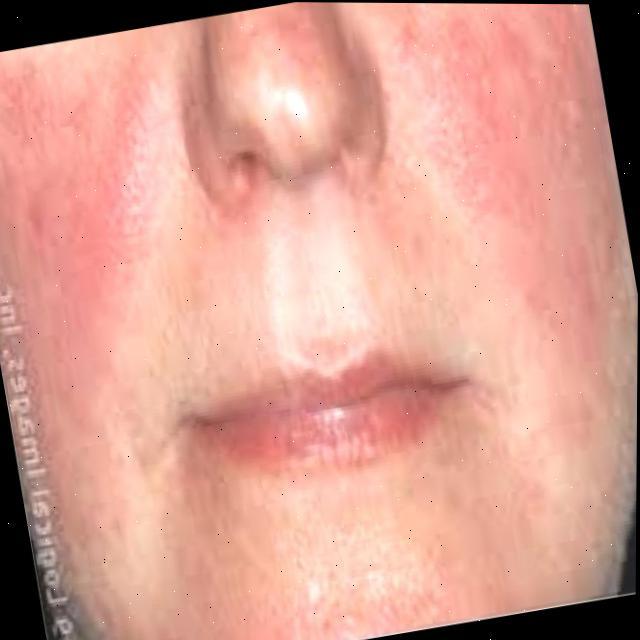Rosacea: (410, 13, 640, 347), (0, 63, 183, 315)
